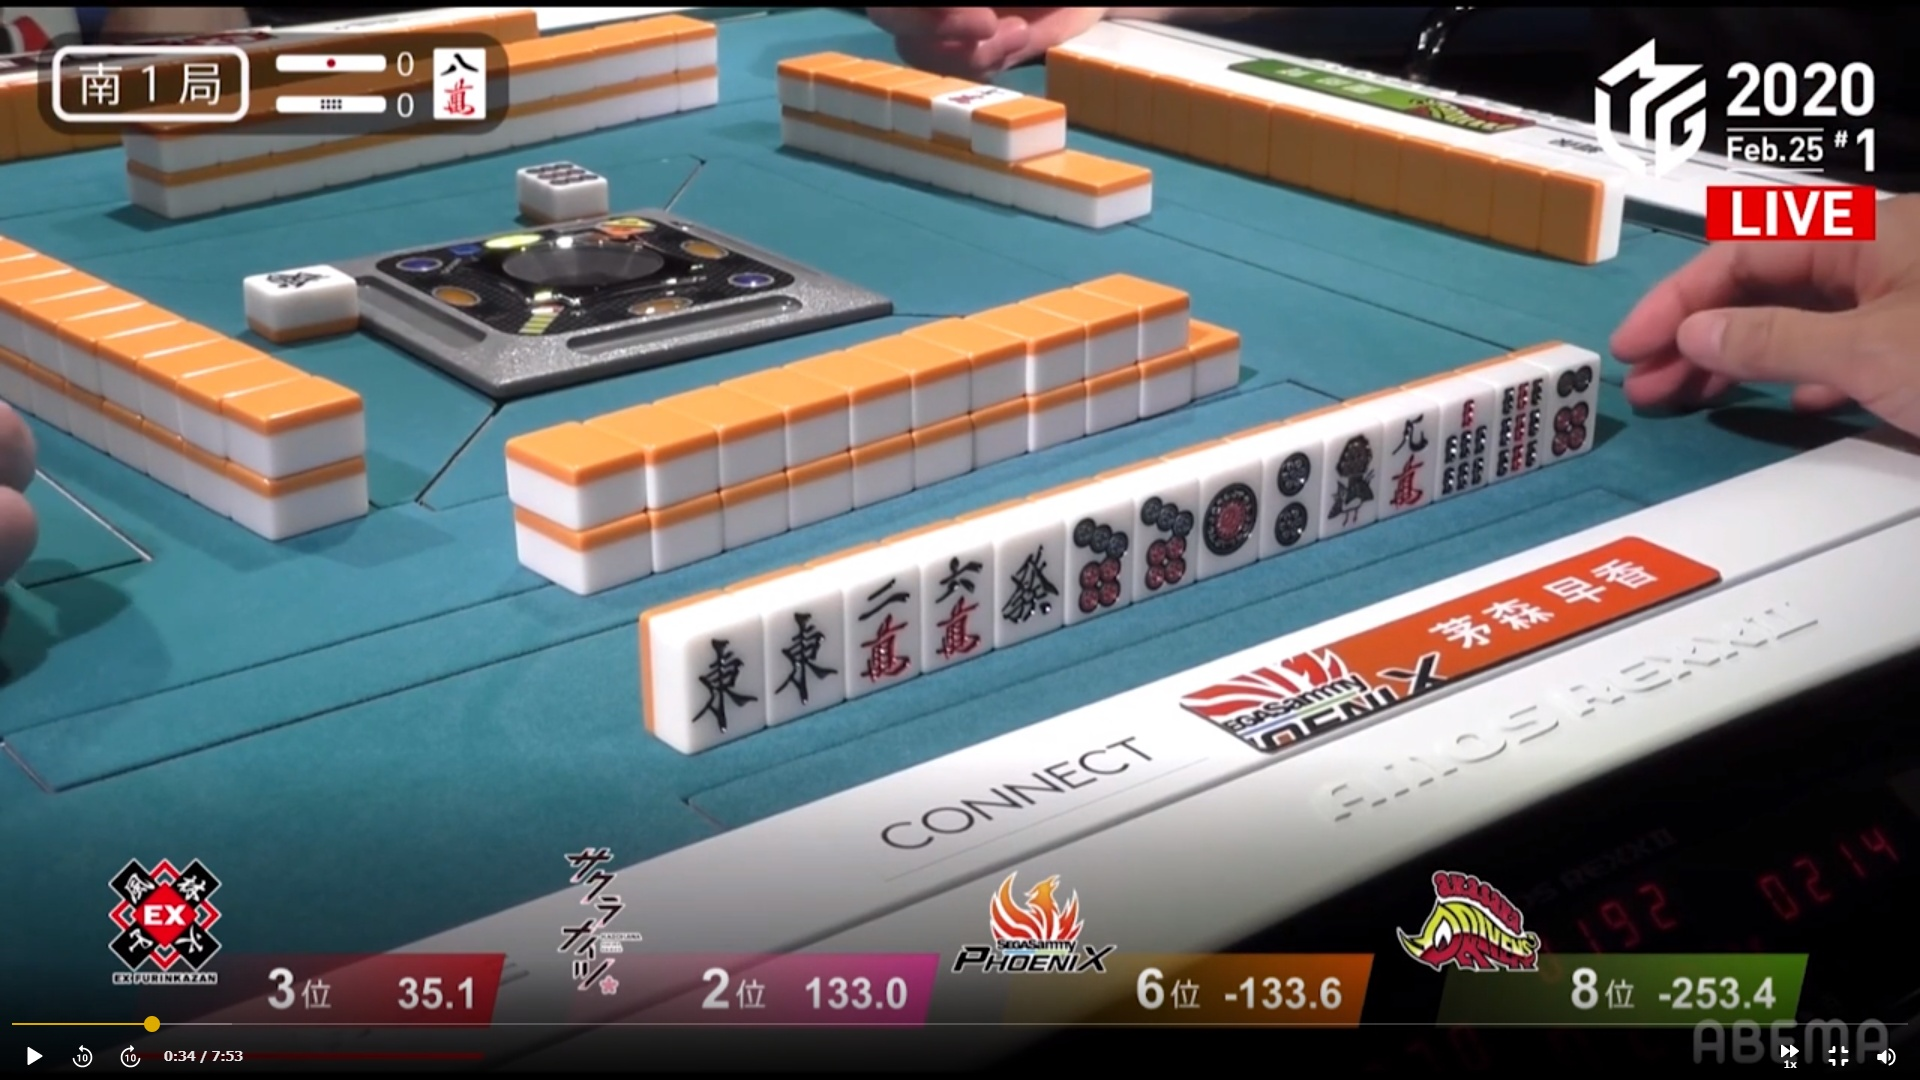1p: (1203, 465, 1258, 571)
1s: (1319, 422, 1373, 533)
2m: (844, 564, 918, 684)
2p: (1255, 442, 1315, 555)
6m: (916, 545, 988, 663)
6p: (1544, 359, 1594, 458)
7p: (1133, 481, 1204, 597), (1071, 502, 1130, 617)
7s: (1435, 389, 1490, 502)
9m: (1375, 407, 1431, 514)
9s: (1489, 369, 1543, 481)
hand_nan_1: (46, 40, 255, 127)
hatsu: (997, 521, 1067, 642)
round_0: (268, 84, 419, 127)
team_segasammy: (1174, 617, 1469, 754)
ton: (682, 616, 767, 737), (767, 592, 847, 713)
